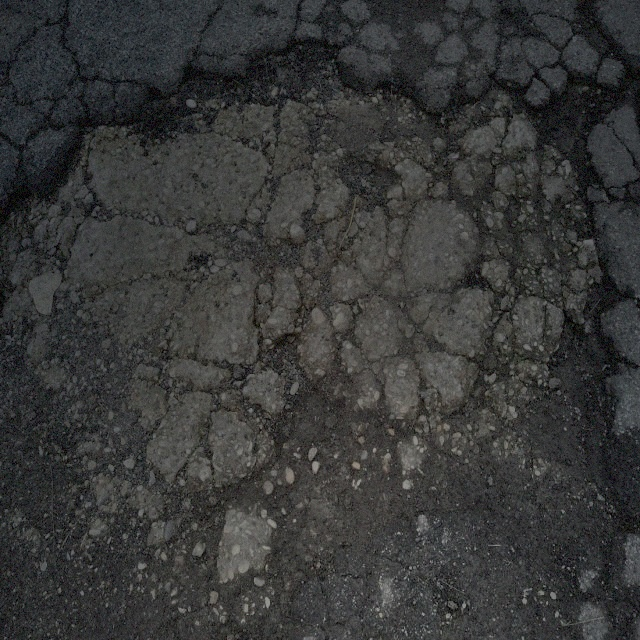pothole: (14, 31, 613, 448), (141, 35, 362, 120), (545, 267, 627, 433), (538, 62, 617, 184)
